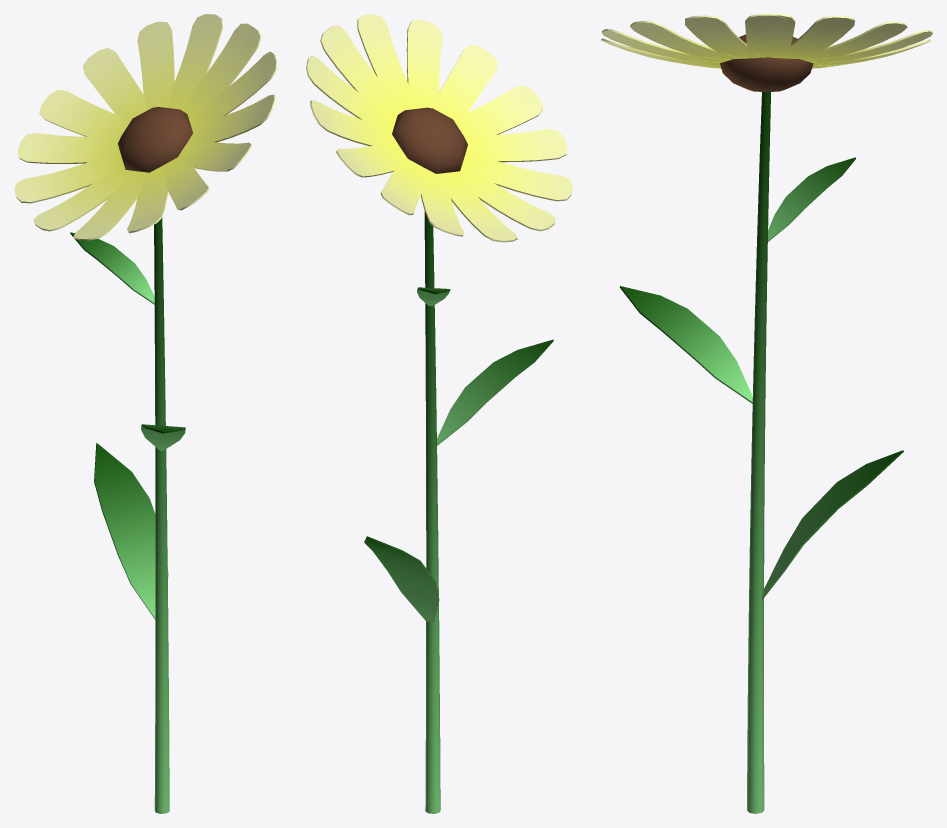
File: SunFlower_Yellow.fbx
3 views of the same model, side by side, from view 1: azimuth 30°, elevation 25°; view 2: azimuth 150°, elevation 25°; view 3: azimuth 270°, elevation 25° (orthographic). The views are drawn at different scales.
Visible parts, largest first — view 1: Plane.016, Cylinder.024, Plane.013, Sphere.001, Plane.015, Plane.014; view 2: Plane.016, Cylinder.024, Sphere.001, Plane.014, Plane.013; view 3: Plane.016, Cylinder.024, Plane.014, Plane.013, Sphere.001, Plane.015.
Part boxes in pixels (<box>): Plane.016: <box>14,14,277,240</box>; Cylinder.024: <box>154,217,169,813</box>; Plane.013: <box>94,443,168,619</box>; Sphere.001: <box>118,107,192,172</box>; Plane.015: <box>70,232,154,304</box>; Plane.014: <box>141,424,185,451</box>; Plane.016: <box>306,14,572,242</box>; Cylinder.024: <box>424,211,440,813</box>; Sphere.001: <box>392,107,467,173</box>; Plane.014: <box>437,339,553,445</box>; Plane.013: <box>364,536,439,623</box>; Plane.016: <box>601,14,932,68</box>; Cylinder.024: <box>747,92,770,813</box>; Plane.014: <box>619,286,752,403</box>; Plane.013: <box>762,450,903,599</box>; Sphere.001: <box>720,34,813,92</box>; Plane.015: <box>768,157,855,241</box>.
Bounding box in the file's own units: 15.95 × 52.46 × 18.57.
